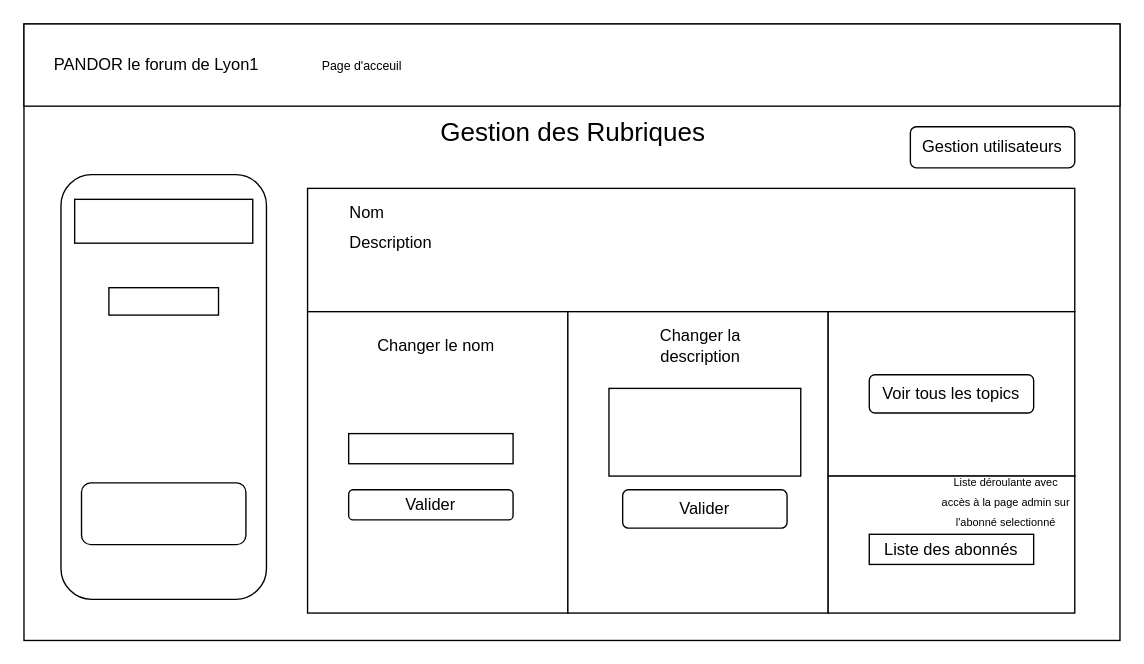
The diagram is 1144 pixels wide and 664 high, and some of its shapes have lost their labels. Here are the shapes that lost their labels. From the top down, the centre of each, then its label:
At [163,220]: "Rechercher une rubrique".
At [163,300]: "Rubrique1 Rubrique2 Rubrique3".
At [163,513]: "Créer un rubrique".
